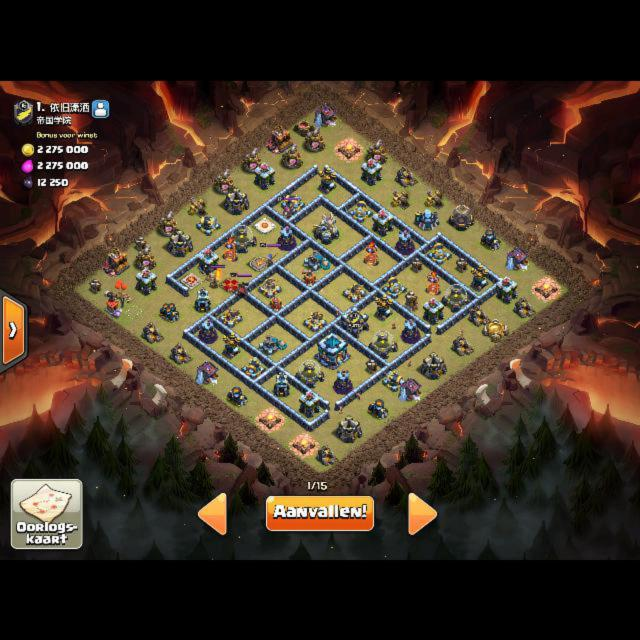AD: (222, 330, 241, 358), (374, 292, 393, 320), (318, 166, 336, 194), (470, 264, 488, 291)
AirSweeper: (301, 269, 318, 288), (267, 294, 284, 312)
BombTower: (195, 286, 210, 312), (274, 371, 289, 396)
Canon: (348, 200, 373, 222), (427, 242, 452, 264), (382, 276, 407, 298), (241, 356, 265, 378), (382, 370, 406, 391), (280, 193, 305, 213), (196, 214, 221, 234)
ClanCastle: (342, 305, 369, 337)
Eagle: (313, 211, 339, 244)
Inferno: (223, 236, 238, 261), (364, 241, 379, 266), (426, 270, 441, 294)
KingPad: (181, 272, 202, 288)
Mortar: (480, 228, 501, 250), (227, 386, 248, 407), (367, 398, 387, 419), (159, 302, 180, 322)
QueenPad: (220, 276, 243, 292)
RcPad: (249, 256, 267, 270)
Scattershot: (304, 249, 331, 272), (259, 334, 287, 356)
TH13: (317, 330, 348, 369)
WardenPad: (254, 217, 274, 231)
WizzTower: (198, 318, 216, 343), (401, 318, 419, 343), (333, 369, 351, 394), (277, 225, 295, 250), (396, 229, 414, 254)
Xbow: (303, 308, 327, 331), (218, 305, 242, 327), (257, 276, 281, 298), (342, 282, 367, 302)
